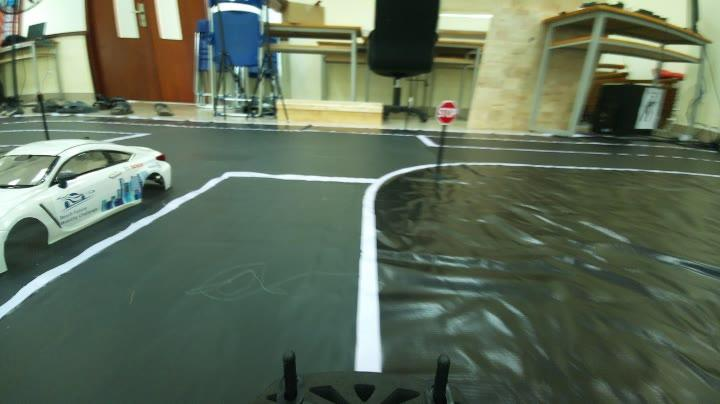car: (3, 133, 178, 265)
stop: (432, 95, 466, 130)
